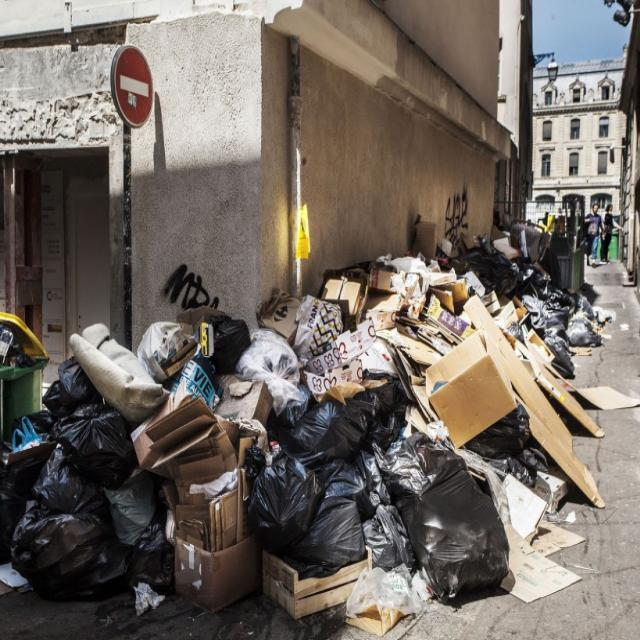garbage: (20, 202, 640, 640)
